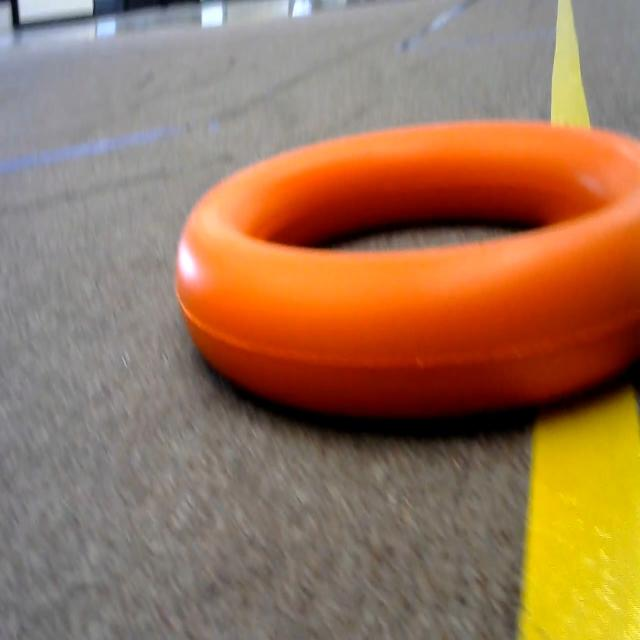note: (166, 92, 640, 444)
